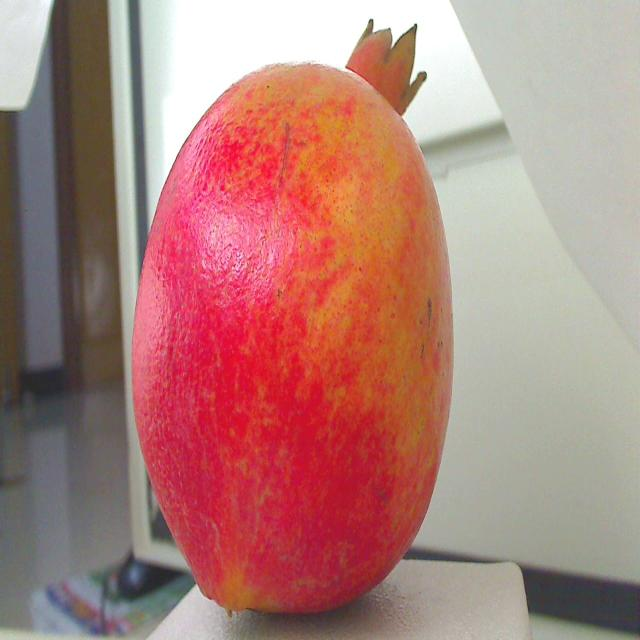pomegranate: (125, 0, 470, 640)
